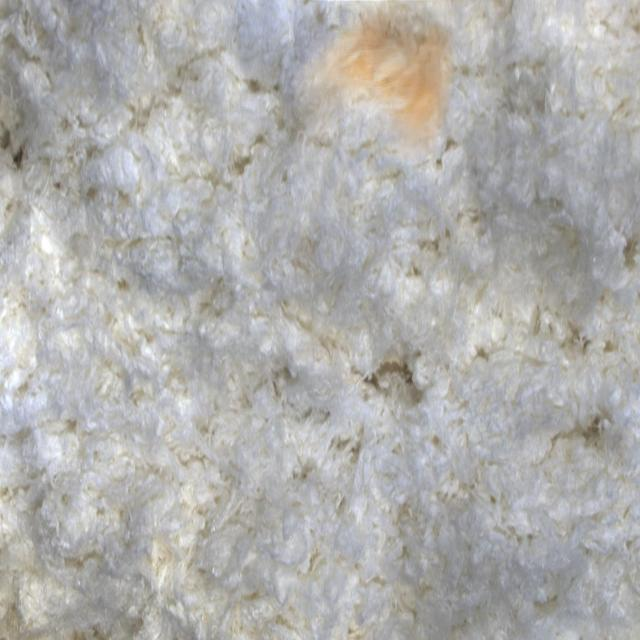dust: (294, 1, 452, 161)
